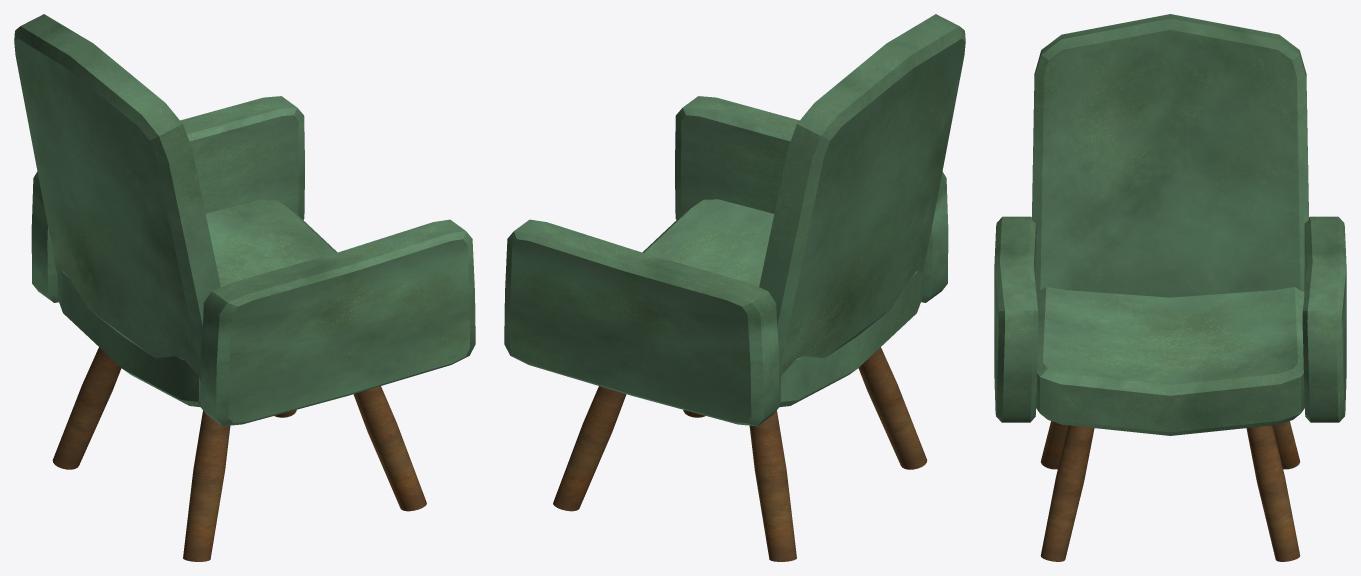
File: Chair2.FBX
3 views of the same model, side by side, from view 1: azimuth 30°, elevation 25°; view 2: azimuth 150°, elevation 25°; view 3: azimuth 270°, elevation 25° (orthographic). The views are drawn at different scales.
Visible parts, largest first — view 1: Object054; view 2: Object054; view 3: Object054.
Part boxes in pixels (x1,y1,x2,y2): Object054: (14,14,475,561); Object054: (504,14,965,561); Object054: (994,14,1346,561).
Size of the model in its own units: 63.59 by 92.29 by 68.57.
